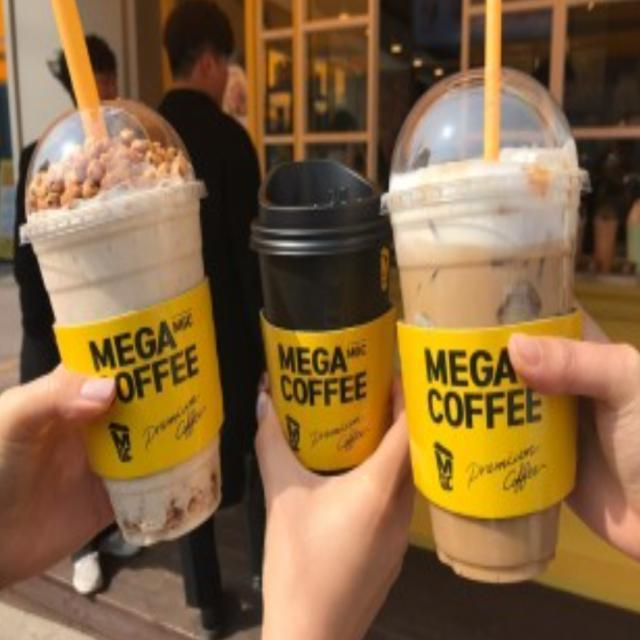cup: (388, 161, 581, 572), (26, 181, 222, 546), (260, 240, 396, 472)
